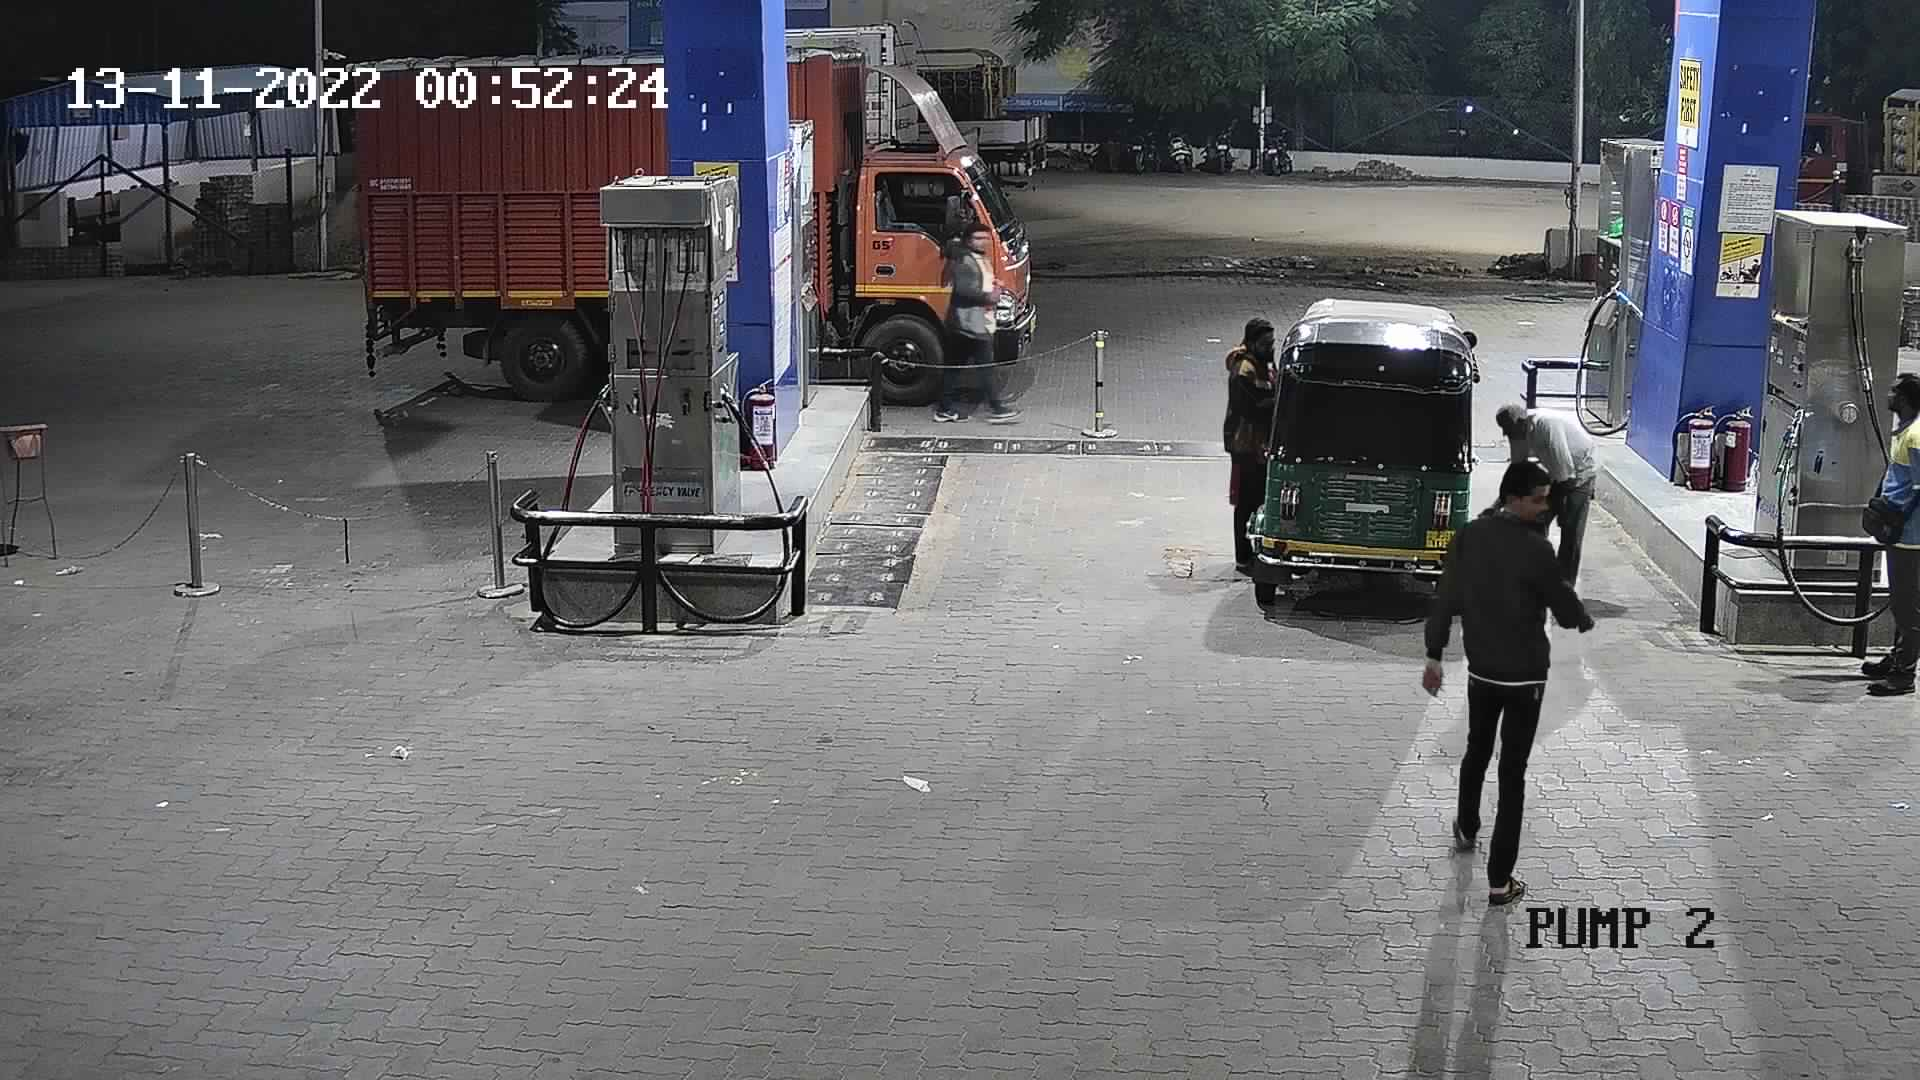Auto: (1203, 286, 1510, 617)
Bike: (1112, 111, 1164, 185), (1193, 116, 1249, 181), (1251, 116, 1305, 179), (1159, 107, 1203, 179)
HMV: (322, 33, 676, 410), (898, 38, 1068, 200), (1783, 66, 1917, 236)
Others: (1847, 363, 1917, 702)
